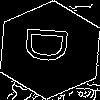D: (25, 25, 78, 65)
